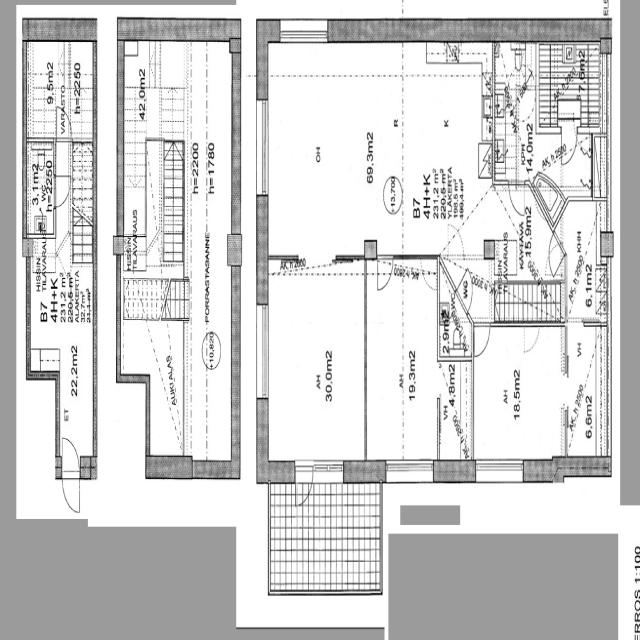door: (61, 438, 81, 514), (472, 318, 492, 358), (376, 254, 393, 294), (523, 320, 541, 356), (144, 137, 161, 174), (421, 259, 438, 291), (53, 178, 70, 210), (560, 132, 576, 166), (508, 182, 523, 214), (524, 68, 536, 90)
window: (253, 93, 273, 206), (254, 300, 272, 405), (383, 456, 438, 488), (278, 17, 331, 48), (473, 456, 525, 486), (310, 456, 345, 477), (568, 189, 592, 203), (566, 317, 588, 331)
zone: (264, 45, 394, 264), (398, 49, 486, 251), (365, 256, 439, 471), (274, 475, 384, 597), (472, 322, 566, 464), (27, 256, 96, 377), (24, 38, 94, 139), (119, 318, 187, 410), (564, 323, 602, 458), (563, 195, 603, 321), (121, 256, 186, 320), (438, 355, 472, 461), (494, 84, 530, 181), (122, 121, 148, 249), (24, 140, 56, 238), (151, 41, 188, 88), (494, 40, 530, 88), (592, 133, 606, 201)
